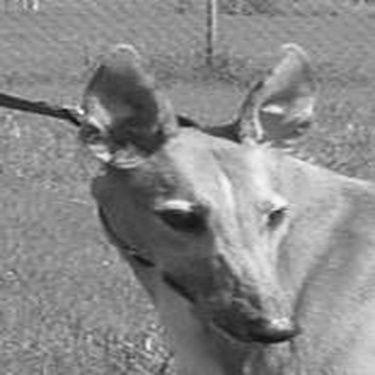dog: (71, 32, 370, 372)
